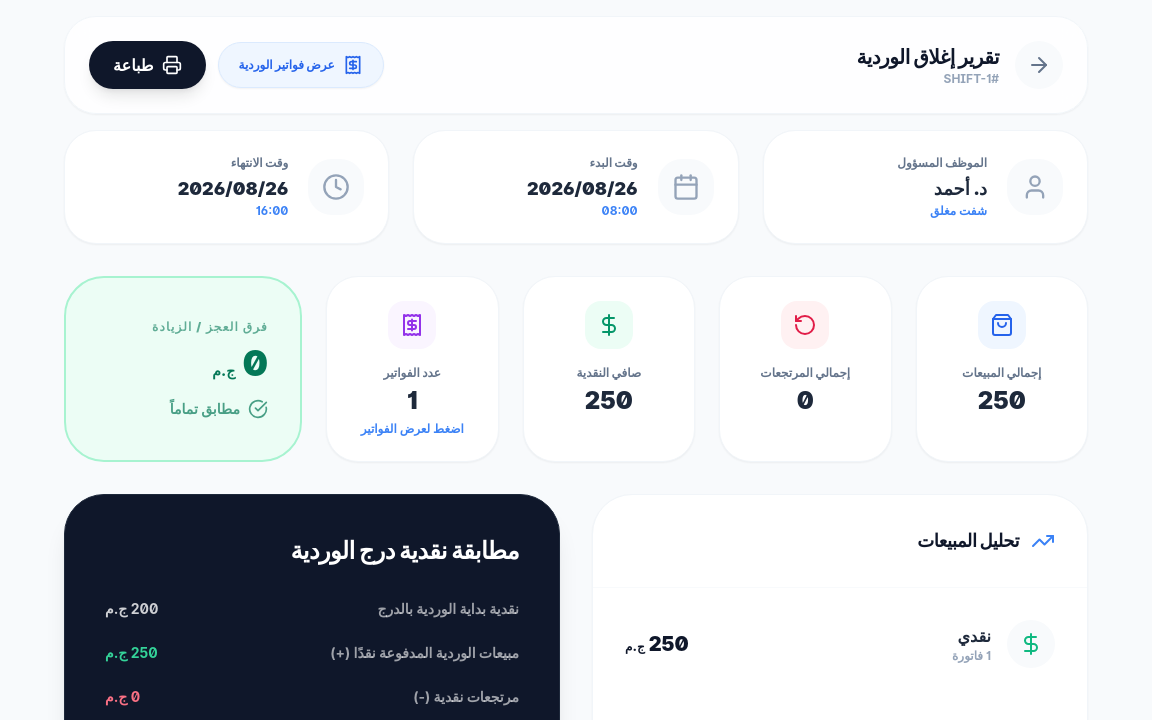
Test: Comprehensive UI Flow Regression Suite for all Added Features › 3. Shift Receipts Modal & Report UI Flow (فواتير الوردية والتقرير) › opens shift receipts modal from Shift Report clicking the invoice count StatBox
# Find the interactive StatBox with title "عدد الفواتير"
Click the text "عدد الفواتير": (412, 372) [384,365,441,380]
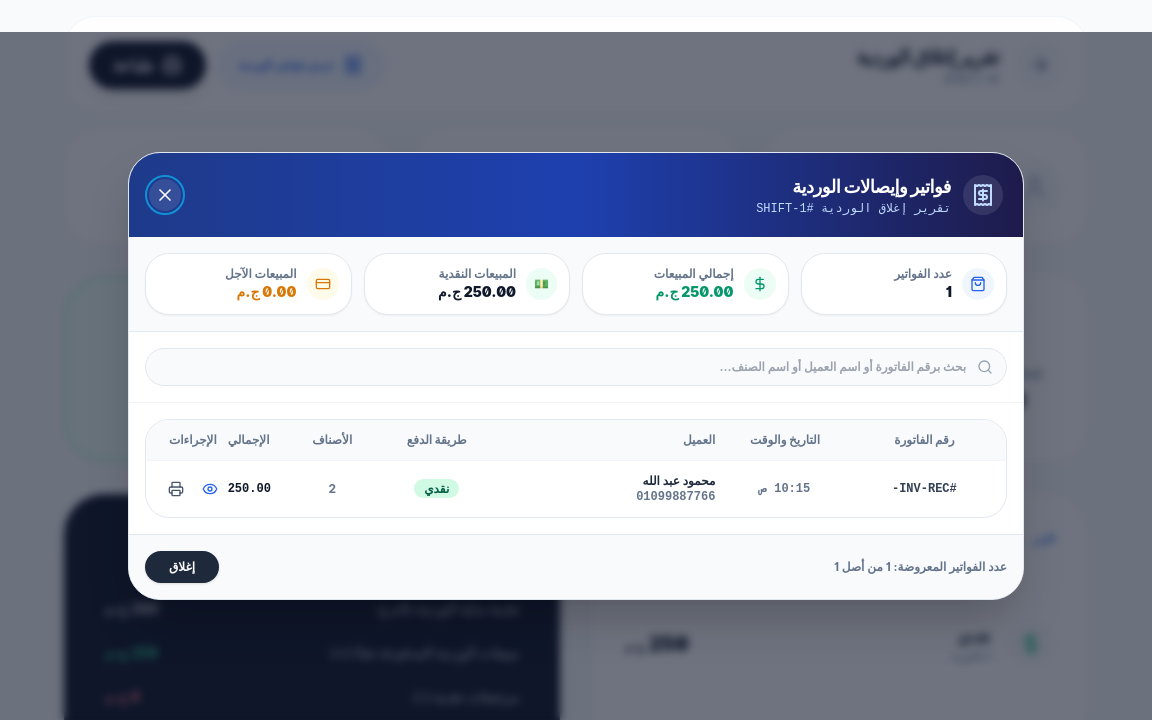
Expected: the heading "فواتير وإيصالات الوردية" is shown, [792,176,951,197]
